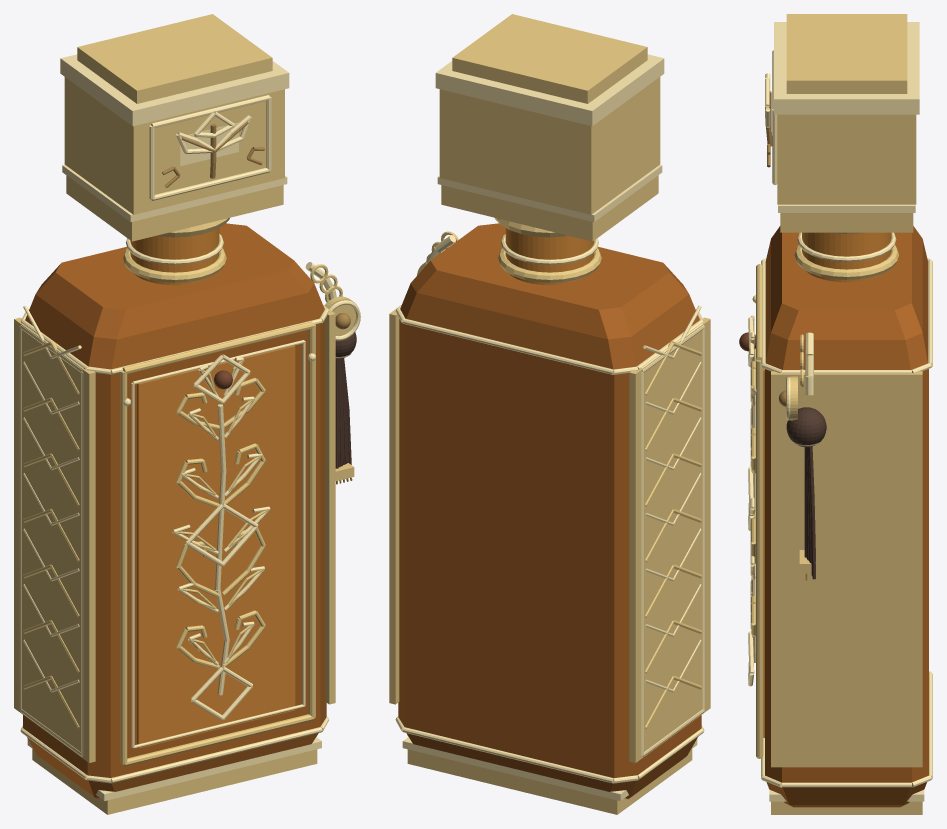
The model's file is bottle-05.glb.
The picture shows the model from 3 angles, left to right: view 1: azimuth 30°, elevation 25°; view 2: azimuth 150°, elevation 25°; view 3: azimuth 270°, elevation 25°; orthographic projection.
Parts seen in each view (by area): view 1: Amber faceted rectangular bottle, Amber inset front panel, Left vertical gold edge, Cap main sculpted gold block, Cap crown panel, Main front gold filigree frame, Cap upper engraved rim, Cap lower rectangular ferrule, Right vertical gold edge, Inner bright gold frame, Bottom gold foot, Side panel gold frame (+13 smaller); view 2: Amber faceted rectangular bottle, Left vertical gold edge, Cap main sculpted gold block, Cap crown panel, Cap upper engraved rim, Cap lower rectangular ferrule, Right vertical gold edge, Bottom gold foot, Side panel gold frame, Amber bottle neck, Body horizontal gold trim 0.31, Body horizontal gold trim 1.78 (+4 smaller); view 3: Right vertical gold edge, Amber faceted rectangular bottle, Cap main sculpted gold block, Cap crown panel, Cap upper engraved rim, Main front gold filigree frame, Amber bottle neck, Cap lower rectangular ferrule, Body horizontal gold trim 1.78, Body horizontal gold trim 0.31, Bottom gold foot, Lower neck gold ring (+8 smaller).
Part boxes in pixels (box(x1,y1,x2,y2)): Amber faceted rectangular bottle: box(23, 223, 326, 799); Amber inset front panel: box(137, 345, 295, 748); Left vertical gold edge: box(14, 317, 95, 762); Cap main sculpted gold block: box(64, 77, 284, 214); Cap crown panel: box(77, 14, 272, 103); Main front gold filigree frame: box(120, 321, 315, 766); Cap upper engraved rim: box(60, 54, 289, 126); Cap lower rectangular ferrule: box(66, 175, 283, 241); Right vertical gold edge: box(323, 305, 335, 704); Inner bright gold frame: box(131, 340, 305, 748); Bottom gold foot: box(32, 749, 317, 814); Side panel gold frame: box(19, 323, 83, 756); Amber faceted rectangular bottle: box(398, 223, 701, 799); Left vertical gold edge: box(629, 317, 710, 762); Cap main sculpted gold block: box(439, 77, 660, 214); Cap crown panel: box(452, 14, 647, 103); Cap upper engraved rim: box(435, 54, 664, 126); Cap lower rectangular ferrule: box(441, 175, 658, 241); Right vertical gold edge: box(389, 305, 401, 704); Bottom gold foot: box(407, 749, 692, 814); Side panel gold frame: box(641, 323, 705, 756); Amber bottle neck: box(505, 228, 594, 285); Body horizontal gold trim 0.31: box(395, 716, 704, 783); Body horizontal gold trim 1.78: box(395, 305, 703, 374); Right vertical gold edge: box(771, 371, 922, 767); Amber faceted rectangular bottle: box(765, 226, 928, 807); Cap main sculpted gold block: box(777, 114, 916, 204); Cap crown panel: box(786, 14, 907, 93); Cap upper engraved rim: box(774, 22, 919, 114); Main front gold filigree frame: box(756, 264, 763, 758); Amber bottle neck: box(802, 232, 891, 282); Cap lower rectangular ferrule: box(780, 213, 913, 232); Body horizontal gold trim 1.78: box(761, 258, 932, 373); Body horizontal gold trim 0.31: box(761, 671, 932, 787); Bottom gold foot: box(771, 801, 922, 814); Lower neck gold ring: box(794, 245, 898, 279).
Bounding box in the file's own units: 1.07 × 2.56 × 0.6259.
